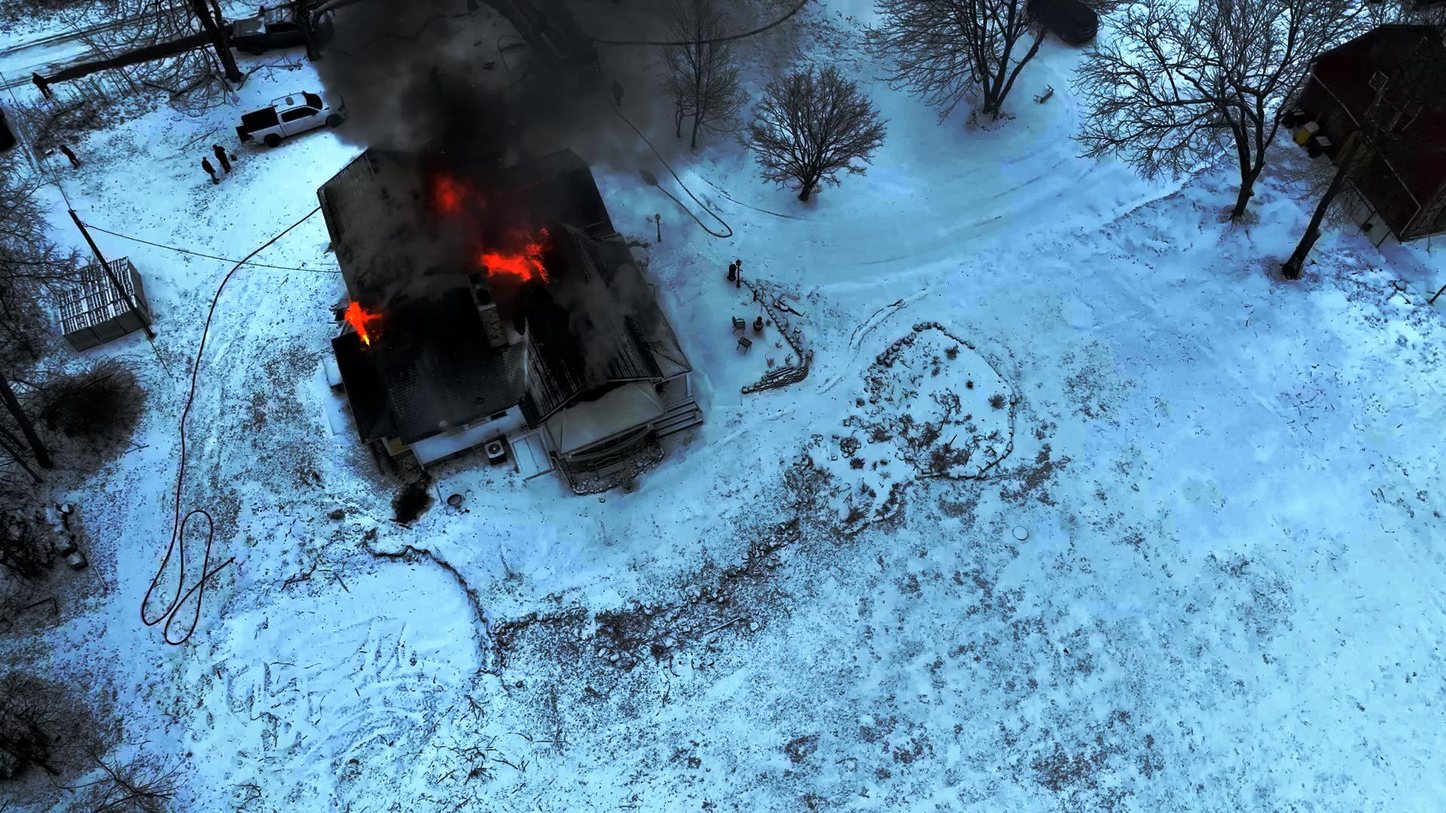fire: (471, 224, 561, 287), (330, 301, 388, 359)
